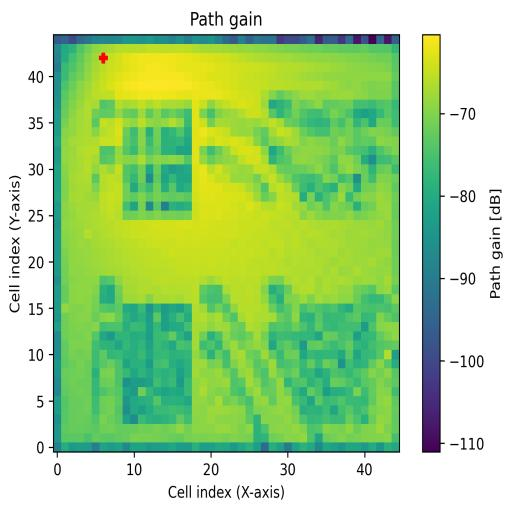Concrete: (300, 101, 377, 220)
Glass: (122, 101, 192, 220)
Metal: (292, 294, 377, 424)
Wood: (123, 304, 191, 424)
